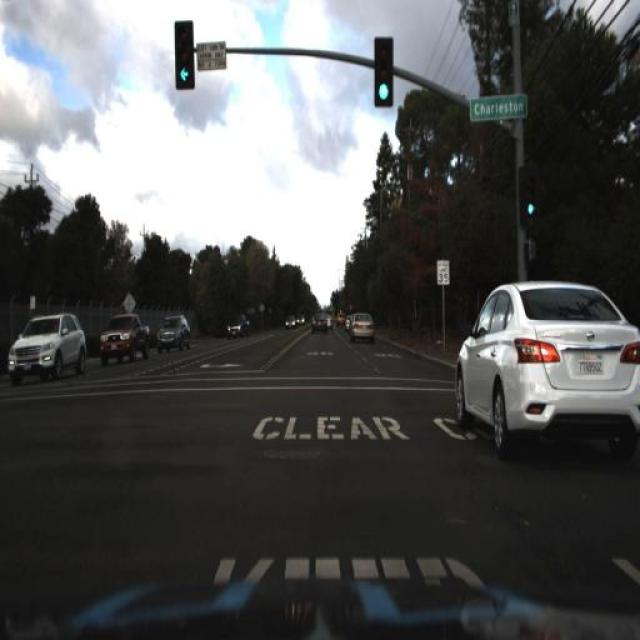car: (436, 273, 640, 479), (0, 306, 96, 395), (94, 305, 155, 375), (342, 308, 379, 344), (156, 314, 189, 351), (224, 306, 248, 342), (307, 305, 331, 335), (282, 313, 298, 332)
trafficLight-GreenLeft: (517, 197, 538, 229)
